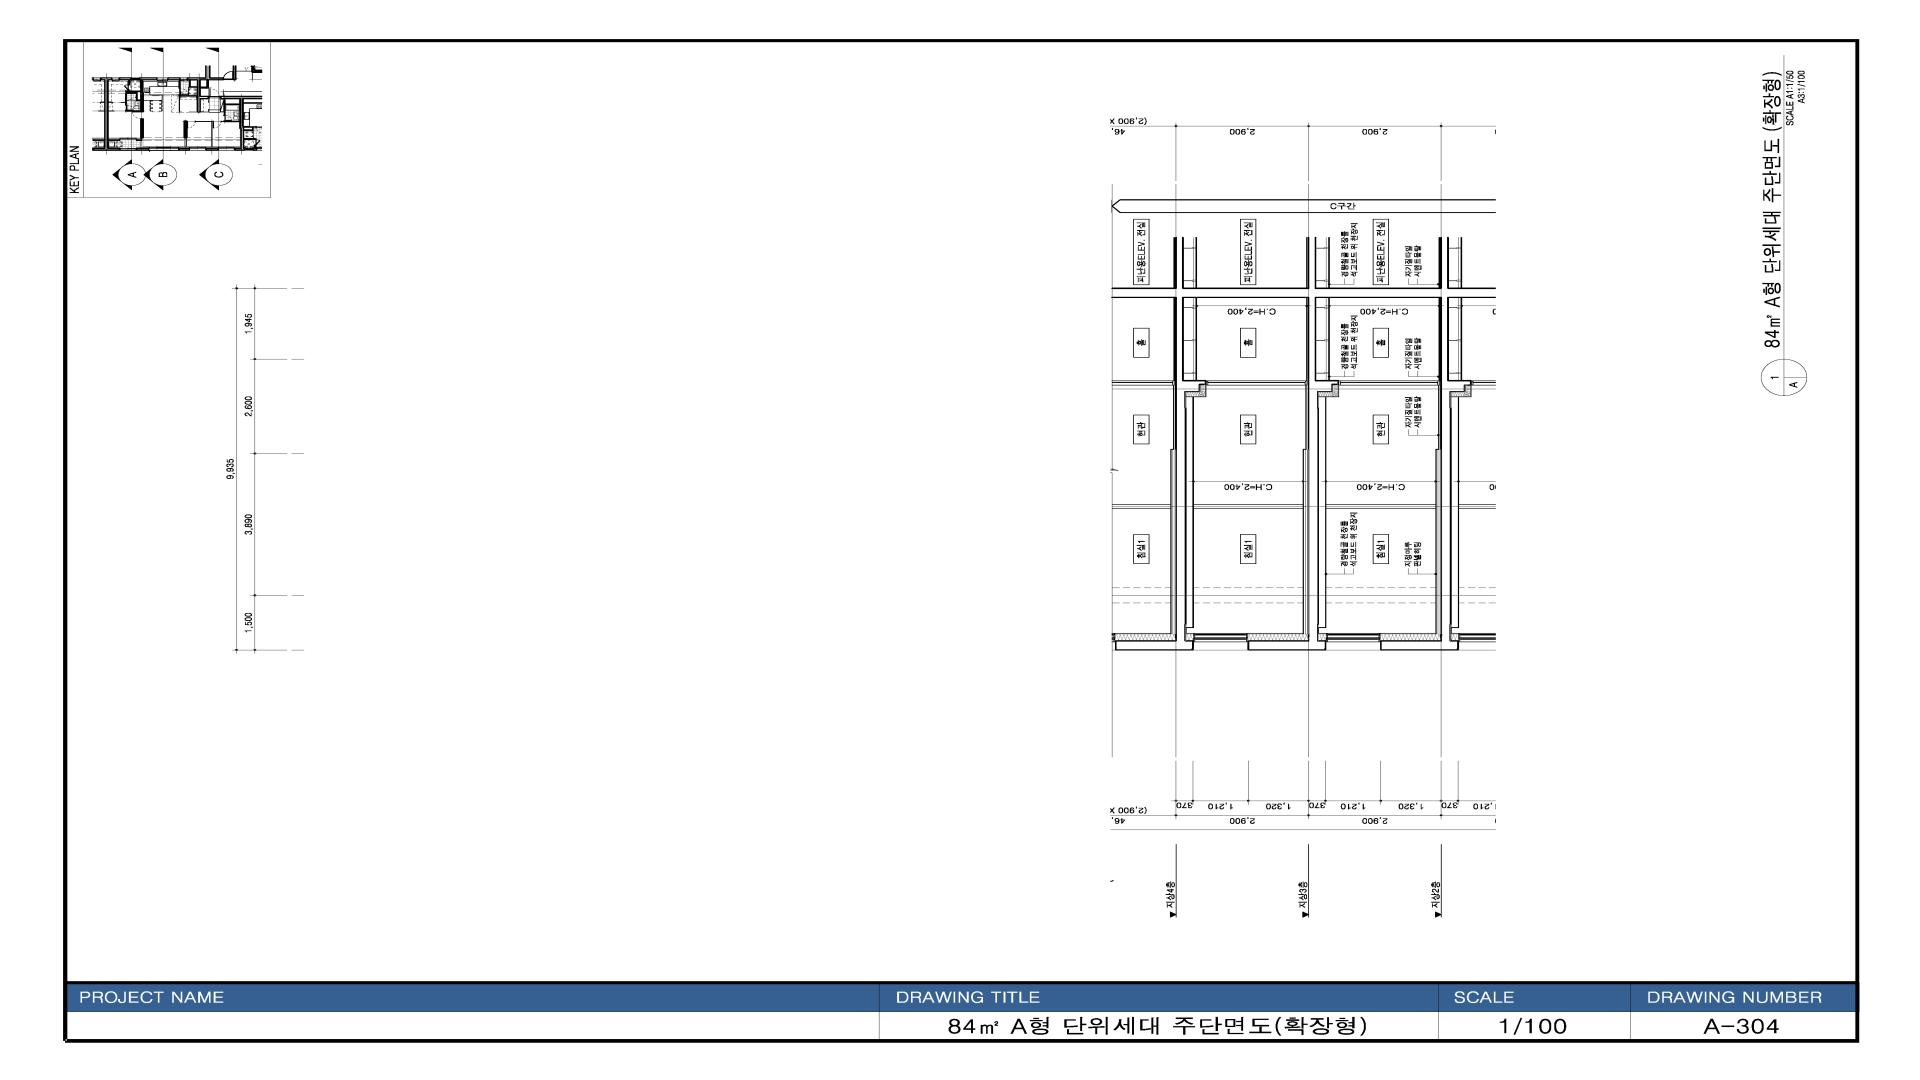door: (1338, 380, 1440, 385), (1207, 380, 1307, 385)
wall: (1112, 287, 1452, 650), (1327, 504, 1436, 509), (1193, 504, 1303, 509)
window: (1325, 633, 1381, 650), (1193, 633, 1247, 650)
